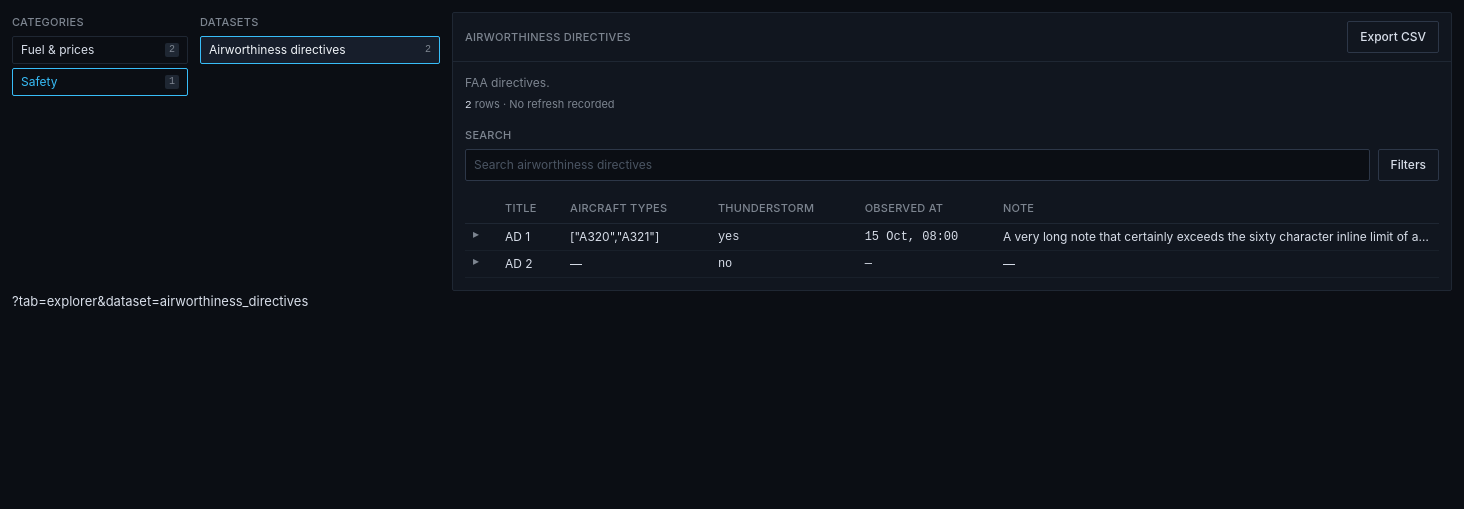
DataExplorer › expands wide and nested values and truncates them inline
Expected: the text "AD 1" is shown, [497, 224, 562, 250]
Expected: the cell titled "A very long note that certainly exceeds the sixty character inline limit of a table cell." is shown, [995, 224, 1439, 250]
Click the button "▸" next to "AD 1" at (476, 234), box [469, 225, 483, 243]
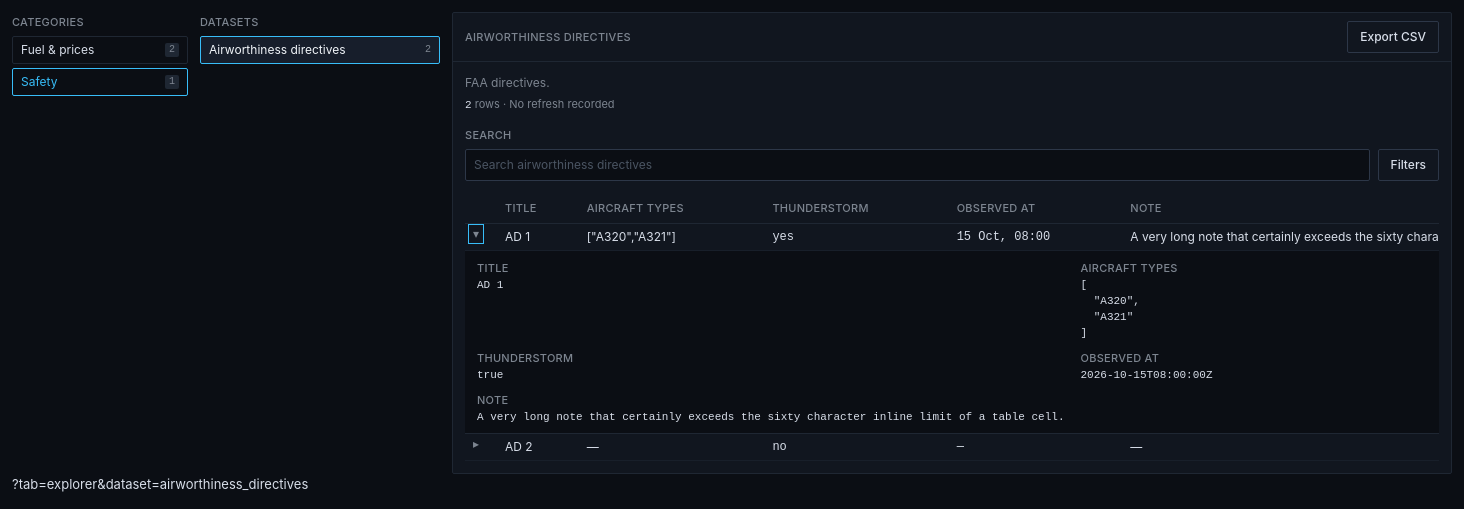
Now the element with test id "row-detail" shows "\"A321\"", box [1080, 279, 1140, 339]
Now the element with test id "row-detail" shows "A very long note that certainly exceeds the sixty character inline limit of a table cell.", box [477, 411, 1064, 423]
Click the button named "Collapse row" at (476, 234), box [469, 225, 483, 243]
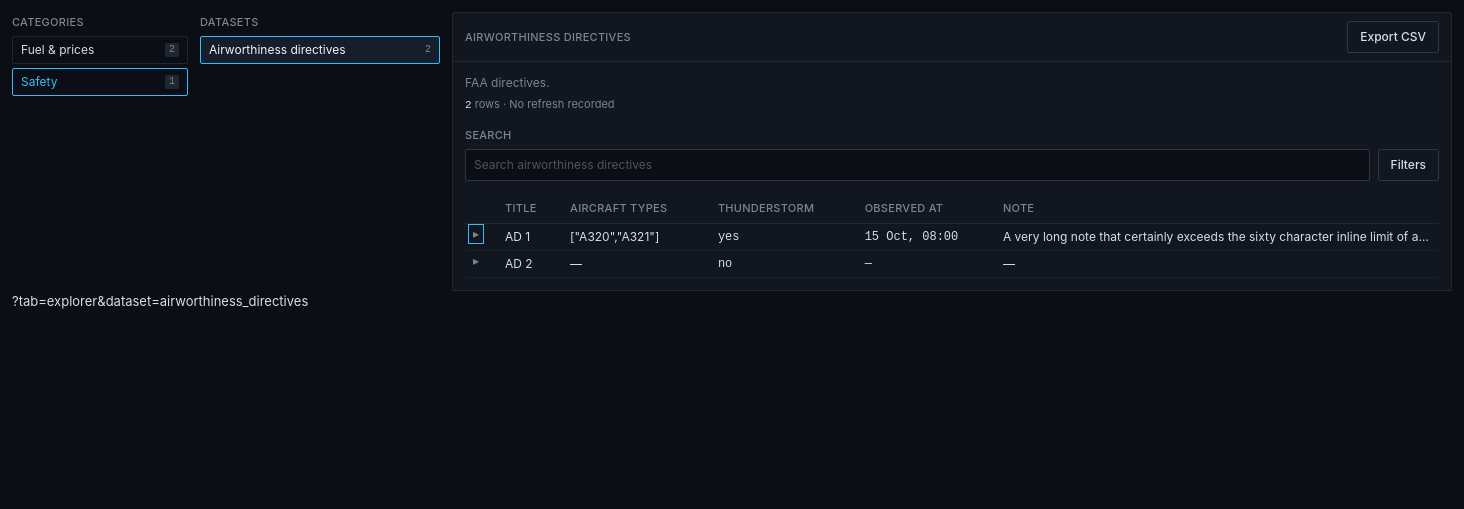
Now the element with test id "row-detail" is gone
